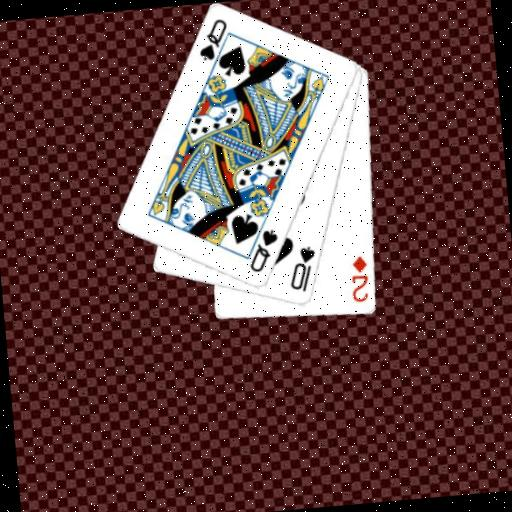10S: (285, 243, 321, 296)
2D: (347, 253, 373, 305)
QS: (244, 227, 283, 276), (193, 16, 232, 64)
